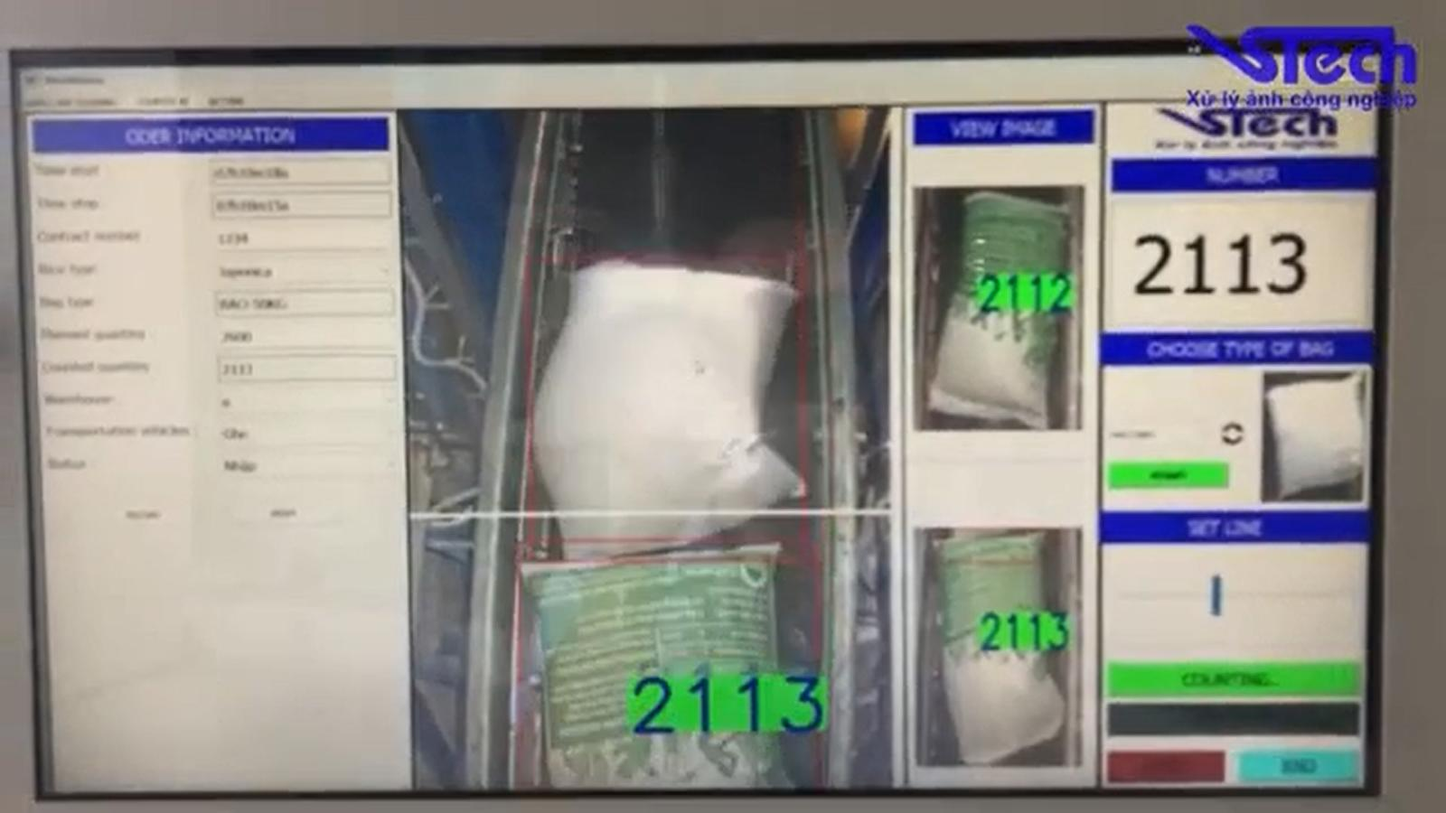rice-bag: (533, 260, 805, 558), (523, 545, 786, 787), (927, 191, 1072, 429), (934, 532, 1065, 763)
